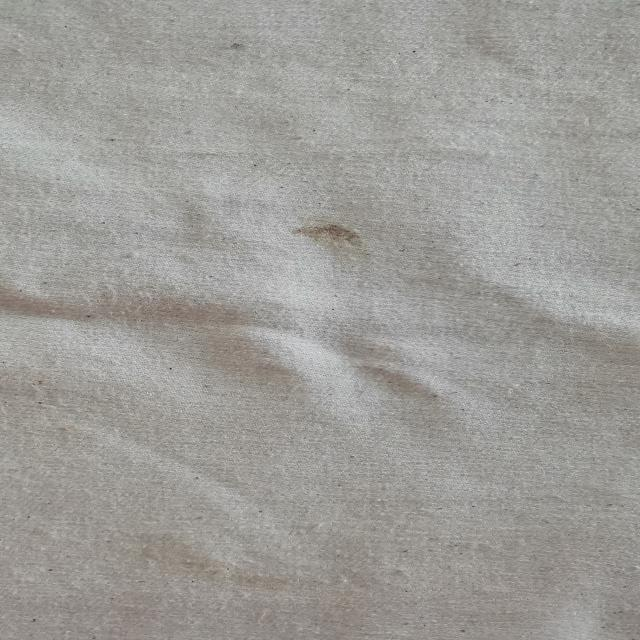taaaches: (257, 204, 387, 284)
